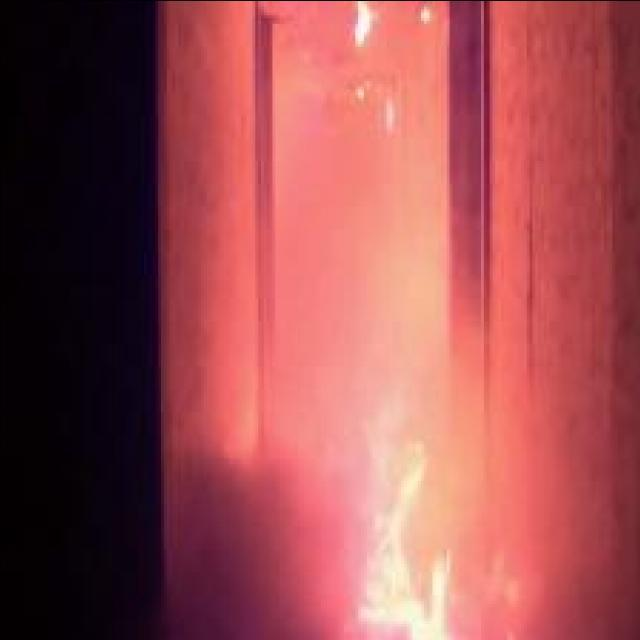Fire: (360, 383, 454, 640), (352, 0, 374, 46)
